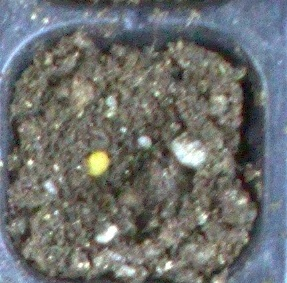chilli seed: (84, 151, 109, 177)
